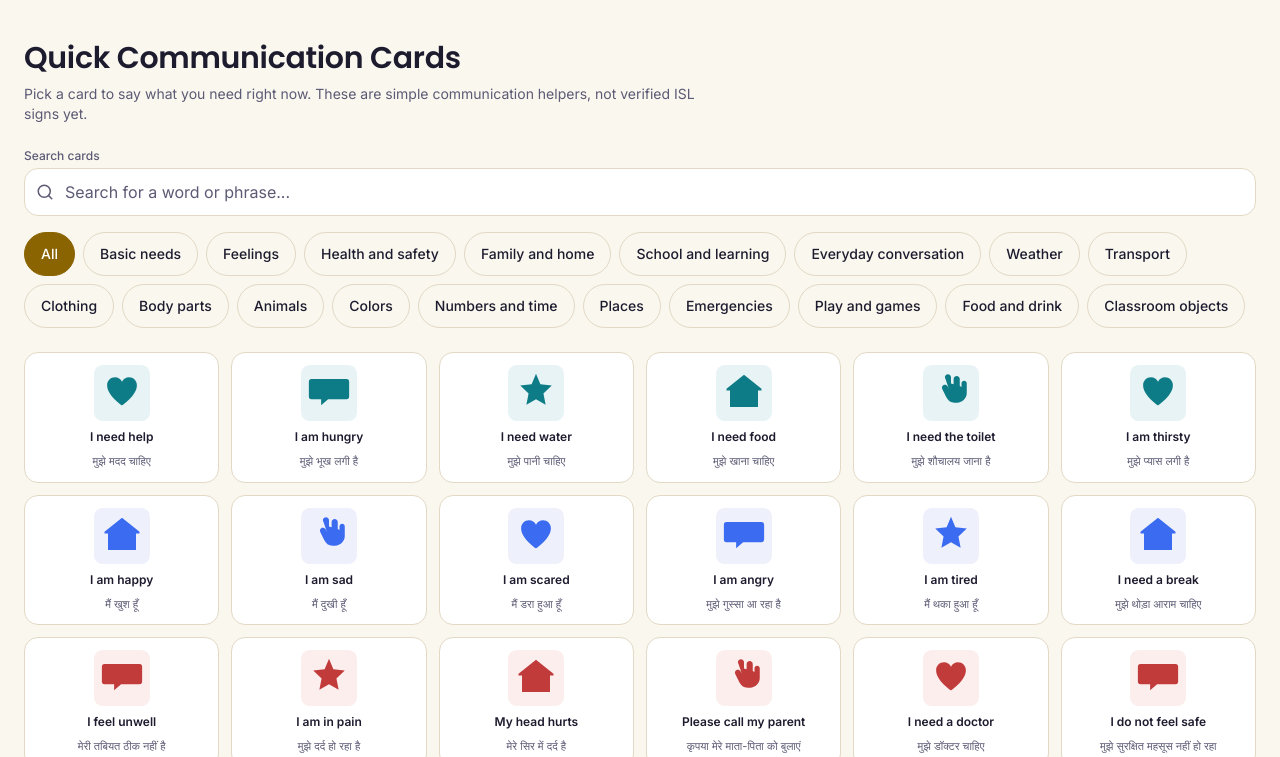
accessibility: roles and labels › Quick Cards "remove from message" buttons each carry a unique accessible name
Click the text "I need help" at (122, 437), box [90,429,153,445]
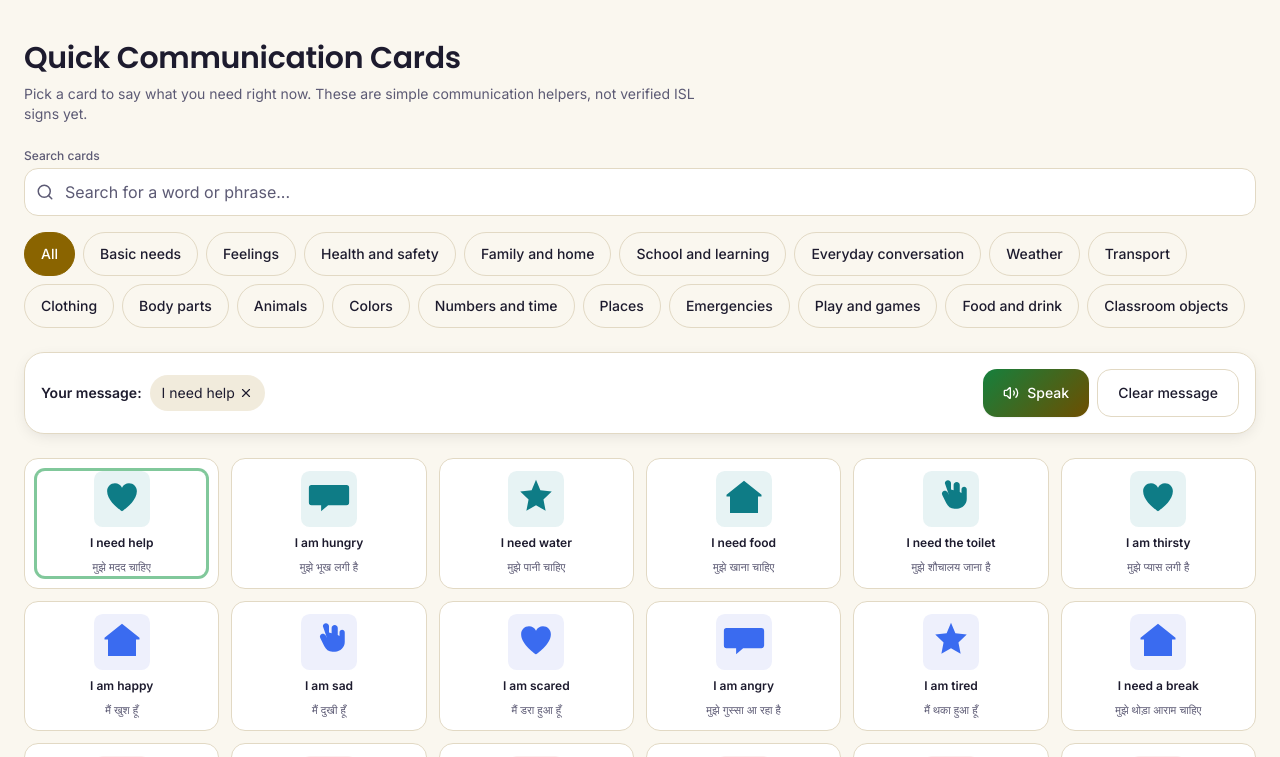
Click the text "I am hungry" at (329, 543), box [295,535,363,551]
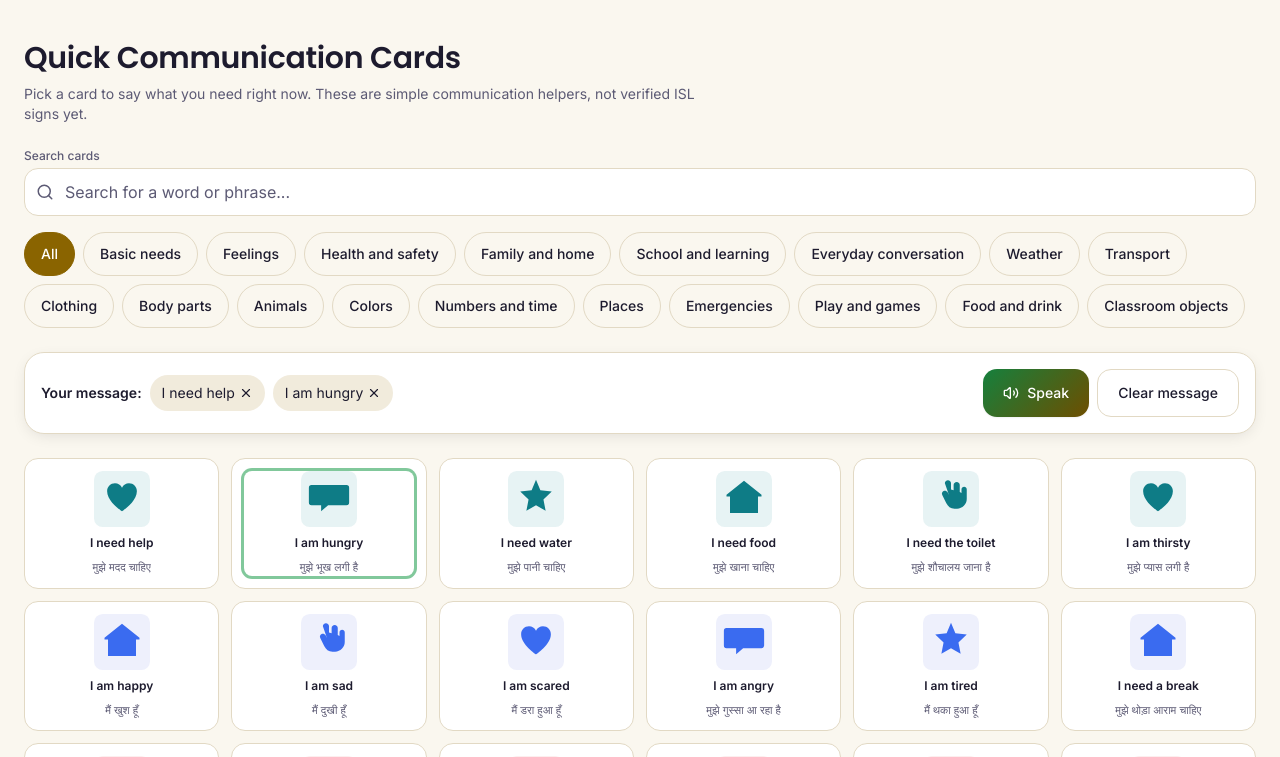
Expected: the button with aria-label "Remove I need help from message" is shown, [150,375,265,411]
Expected: the button with aria-label "Remove I am hungry from message" is shown, [273,375,393,411]
